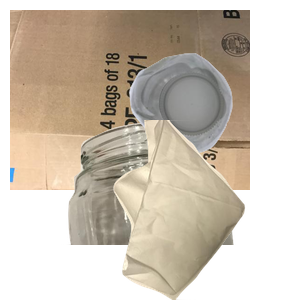cardboard: (10, 10, 250, 190)
glass: (61, 120, 287, 300)
plastic: (127, 51, 300, 197)
trash: (111, 120, 300, 300)
